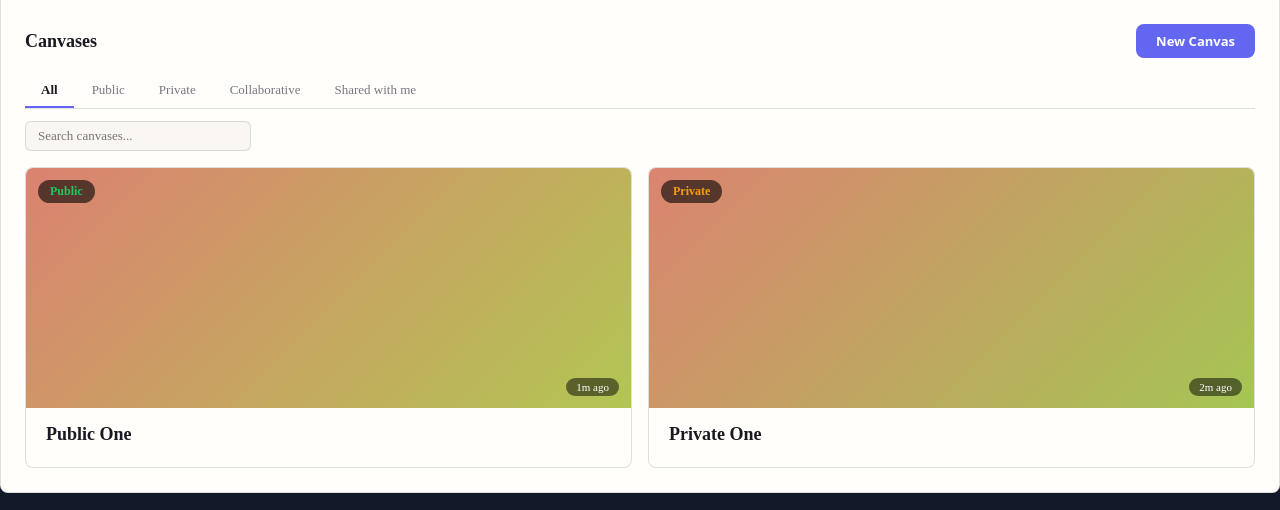
Test: CanvasGallerySection › filter tabs › switching tabs updates displayed canvases
Switch to Private
Click the button with test id "filter-private" at x=177, y=91, box [143,74,212,108]
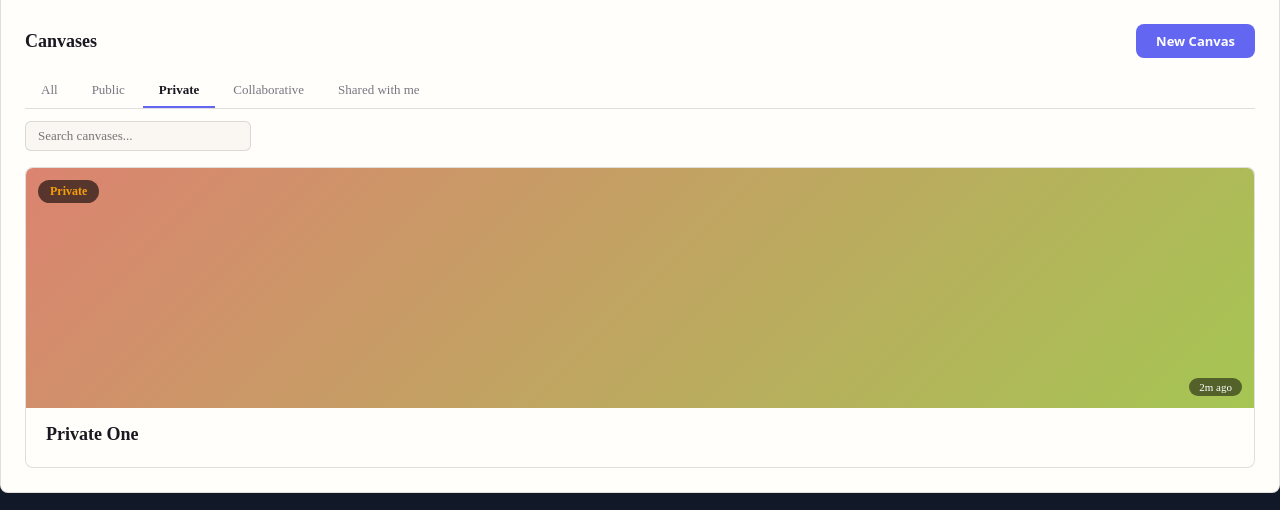
Expected: the text "Private One" is shown, [46,424,138,444]
Expected: the link "Public One" is gone
Switch back to All
Click the button with test id "filter-all" at x=49, y=91, box [25,74,74,108]
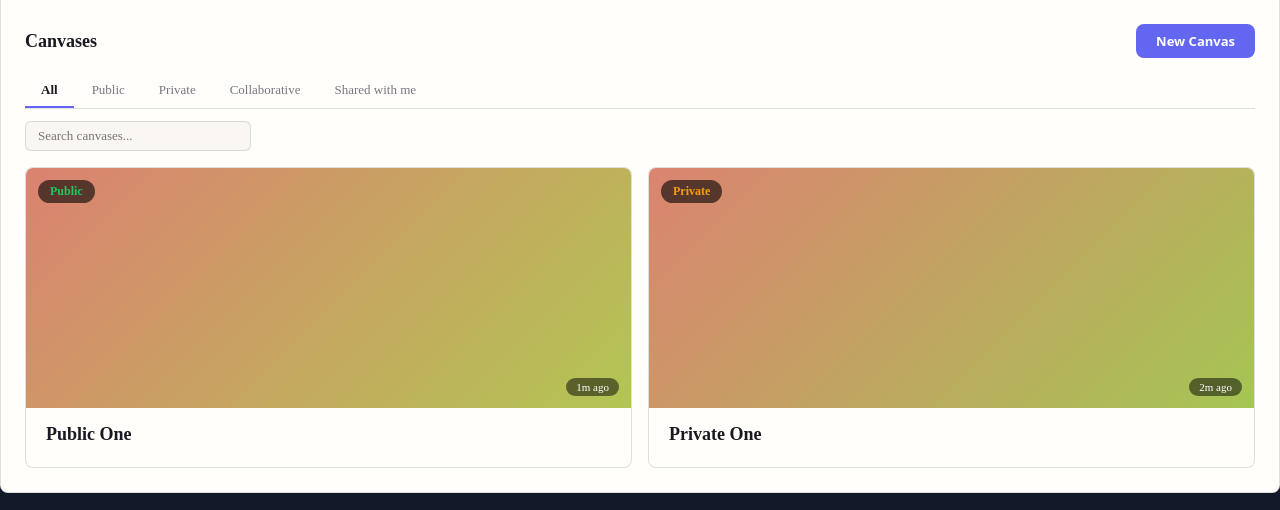
Expected: the text "Private One" is shown, [669,424,762,444]
Expected: the text "Public One" is shown, [46,424,132,444]
